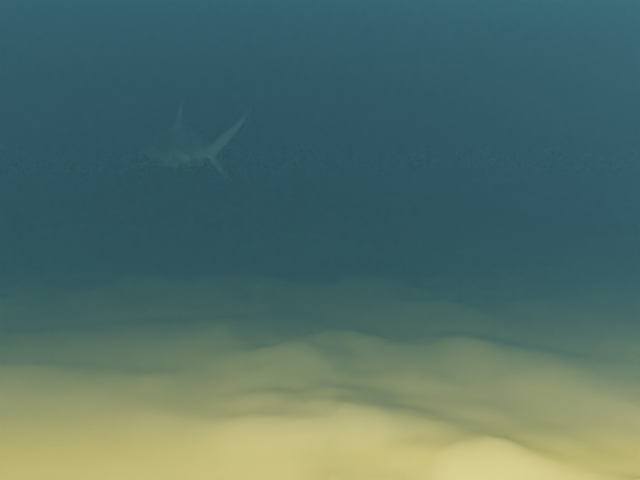Carribean Shark.001: (112, 100, 252, 182)
